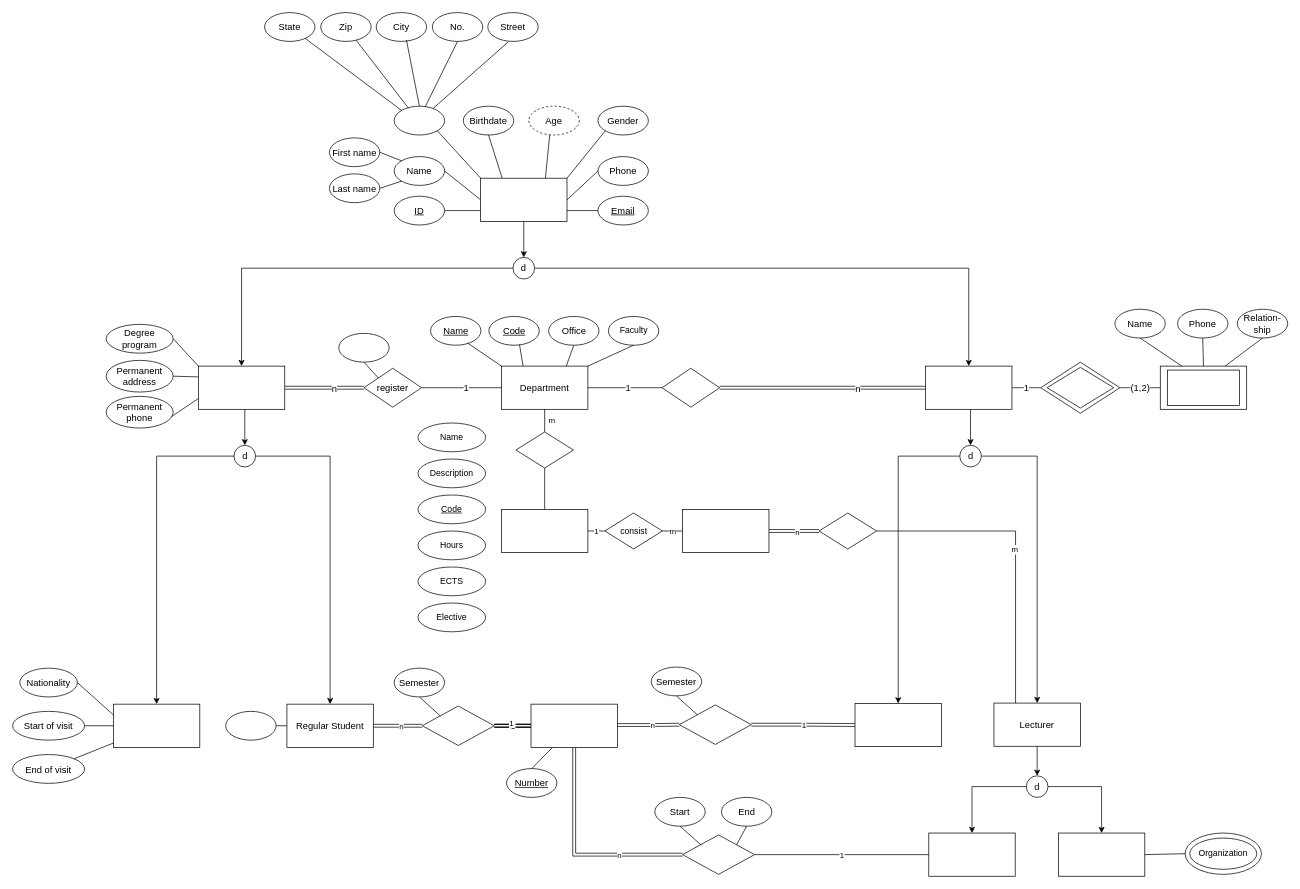
Image size: 1300x889. Some labels were removed from this diagram. Here are the shapes that lost their labels. From the top down, the centre of each, then its label:
At point 419,120: "Address".
At point 523,199: "Person".
At point 363,347: "Year".
At point 241,387: "Student".
At point 690,387: "work".
At point 968,387: "Employee".
At point 1080,387: "contact".
At point 1203,387: "Emergency contact".
At point 544,449: "offer".
At point 544,531: "Module".
At point 725,531: "Course".
At point 847,530: "teach".
At point 156,725: "Visiting student".
At point 250,725: "Mtk".
At point 458,725: "belong to".
At point 573,725: "Kurs (Class)".
At point 715,724: "manages".
At point 897,725: "Secretary".
At point 718,854: "SGL".
At point 971,854: "Internal professor".
At point 1101,854: "External docent".
